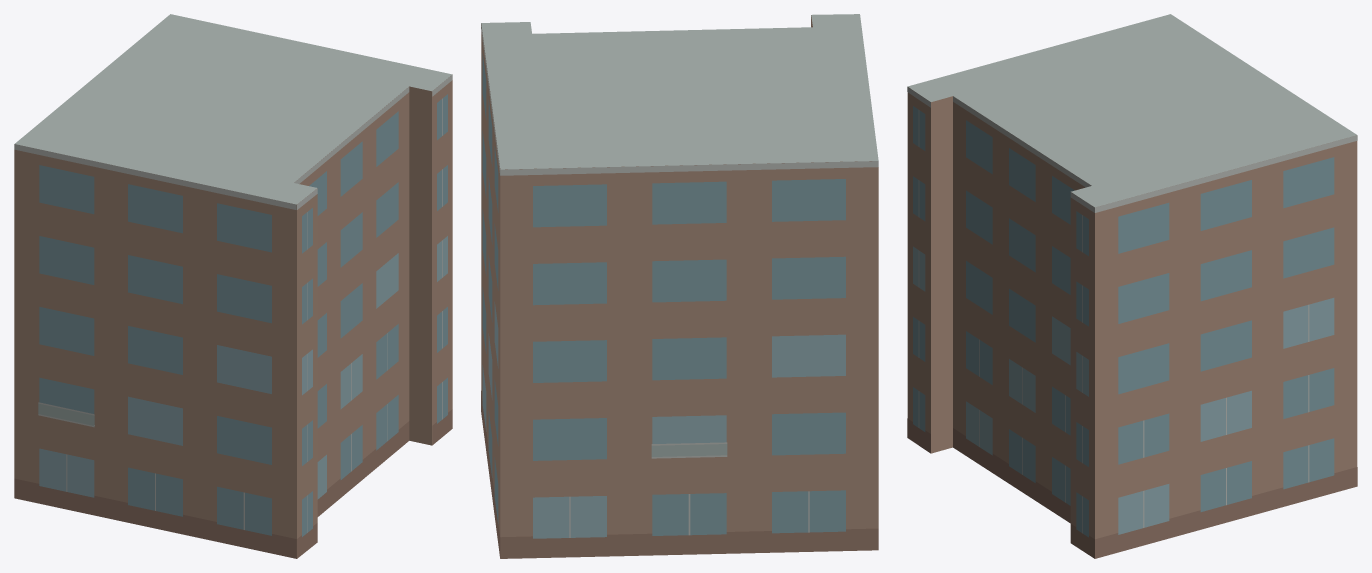
File: survey-upis-32590739.glb
3 renders of one model, left to right at view 1: azimuth 30°, elevation 25°; view 2: azimuth 150°, elevation 25°; view 3: azimuth 270°, elevation 25°, orthographic. The views are drawn at different scales.
Parts seen in each view (by area): view 1: survey-upis-32590739.tmp; view 2: survey-upis-32590739.tmp; view 3: survey-upis-32590739.tmp.
Boxes of the visible parts, x1,y1,x2,y2 form: survey-upis-32590739.tmp: [14, 14, 452, 558]; survey-upis-32590739.tmp: [481, 14, 878, 558]; survey-upis-32590739.tmp: [907, 14, 1357, 558].
Size of the model in its own units: 18.02 by 15.25 by 17.71.
